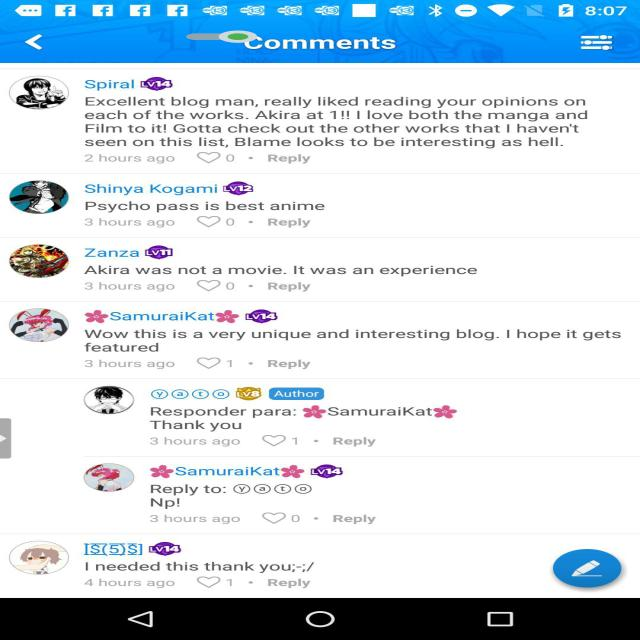social proof: (186, 25, 257, 48)
